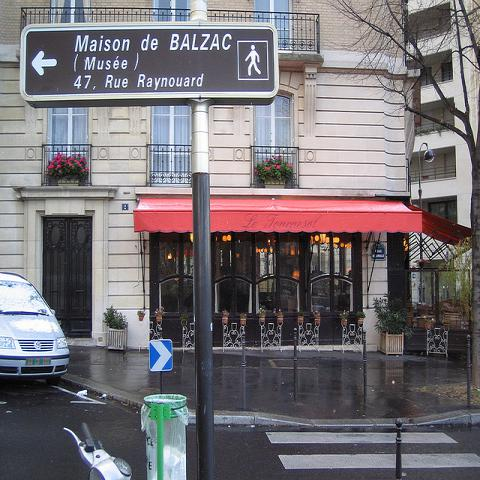car: (0, 271, 71, 386)
motorcycle: (64, 422, 132, 480)
